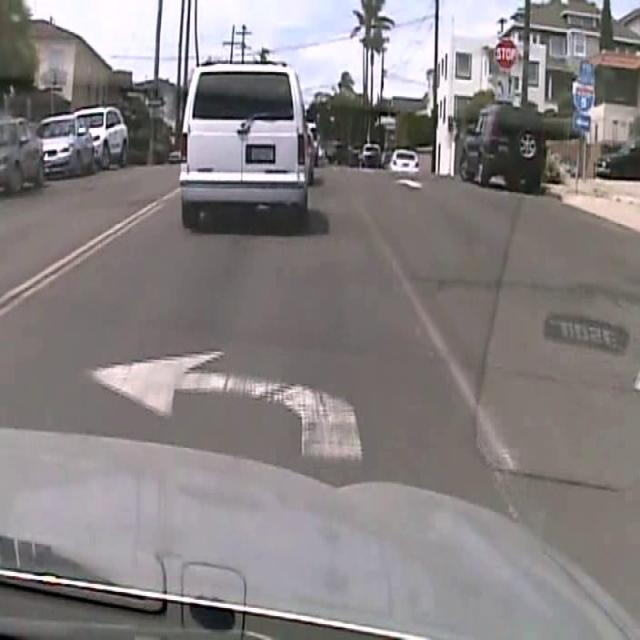stop: (493, 37, 517, 70)
